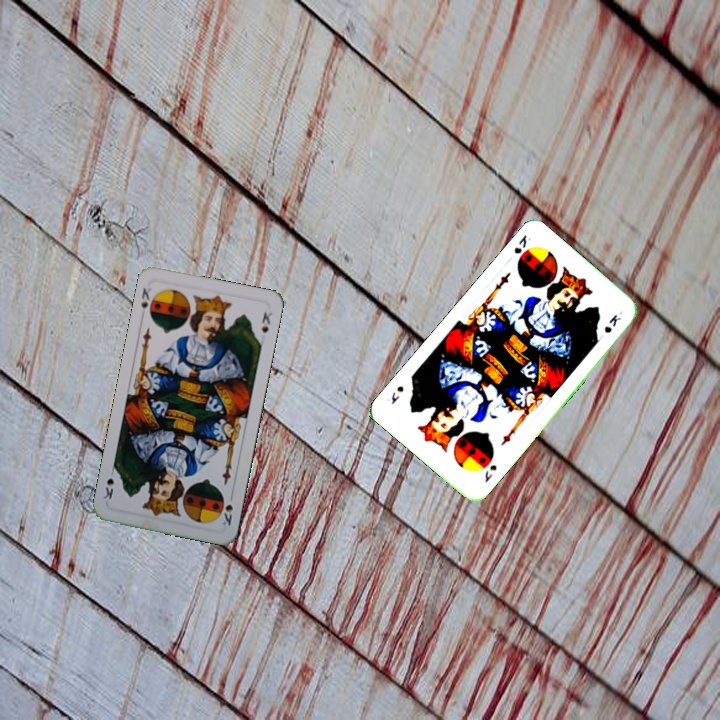SK: (137, 283, 158, 321), (218, 489, 236, 528), (510, 230, 533, 256), (481, 460, 499, 485)
